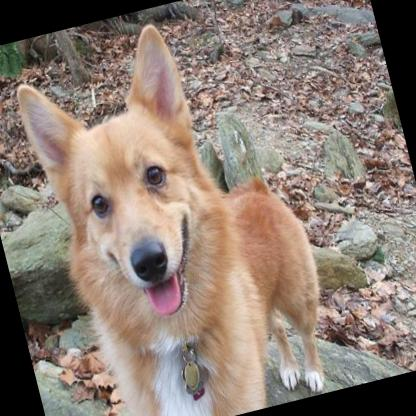Pembroke: (3, 0, 343, 416)
